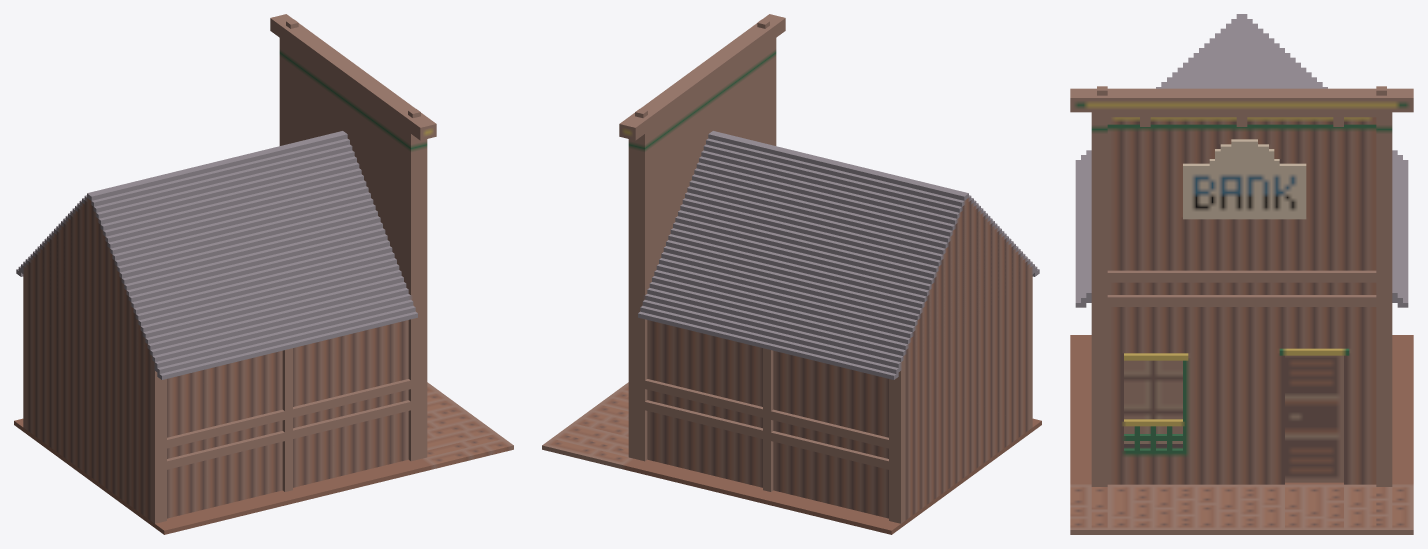
File: Bank 2.obj
The picture shows the model from 3 angles, left to right: view 1: azimuth 30°, elevation 25°; view 2: azimuth 150°, elevation 25°; view 3: azimuth 270°, elevation 25°; orthographic projection. The views are drawn at different scales.
Size of the model in its own units: 86 by 82 by 64.
1 material, 1 textured.
